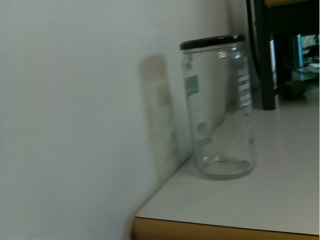pote cristal: (175, 32, 266, 184)
